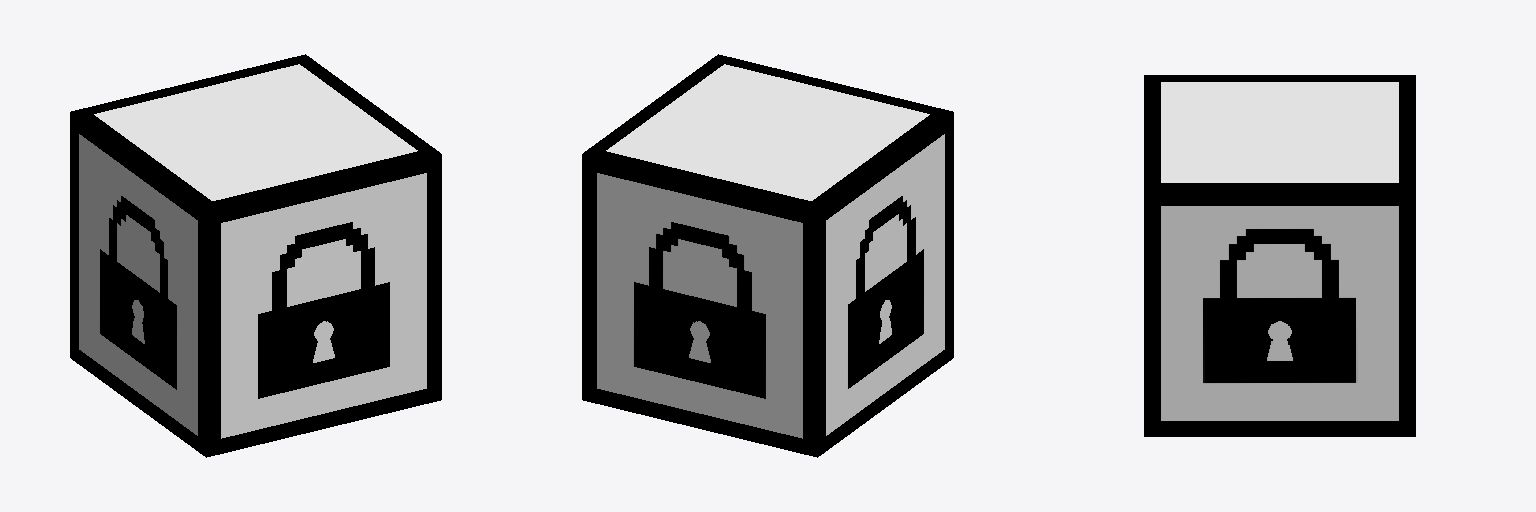
The picture shows the model from 3 angles: view 1: azimuth 30°, elevation 25°; view 2: azimuth 150°, elevation 25°; view 3: azimuth 270°, elevation 25°; orthographic projection.
Parts seen in each view (by area): view 1: 立方体; view 2: 立方体; view 3: 立方体.
Boxes of the visible parts, x1=… form: 立方体: x1=70, y1=54, x2=441, y2=457; 立方体: x1=582, y1=54, x2=953, y2=457; 立方体: x1=1144, y1=75, x2=1415, y2=436.
Bounding box in the file's own units: 1 × 1 × 1.
1 materials, 1 textured.